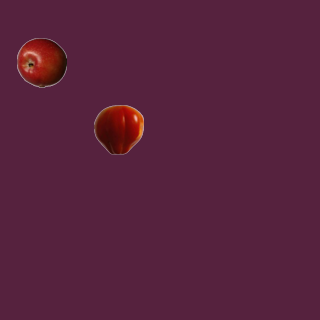Apple Braeburn: (16, 37, 66, 87)
Tomato 1: (93, 104, 143, 154)
